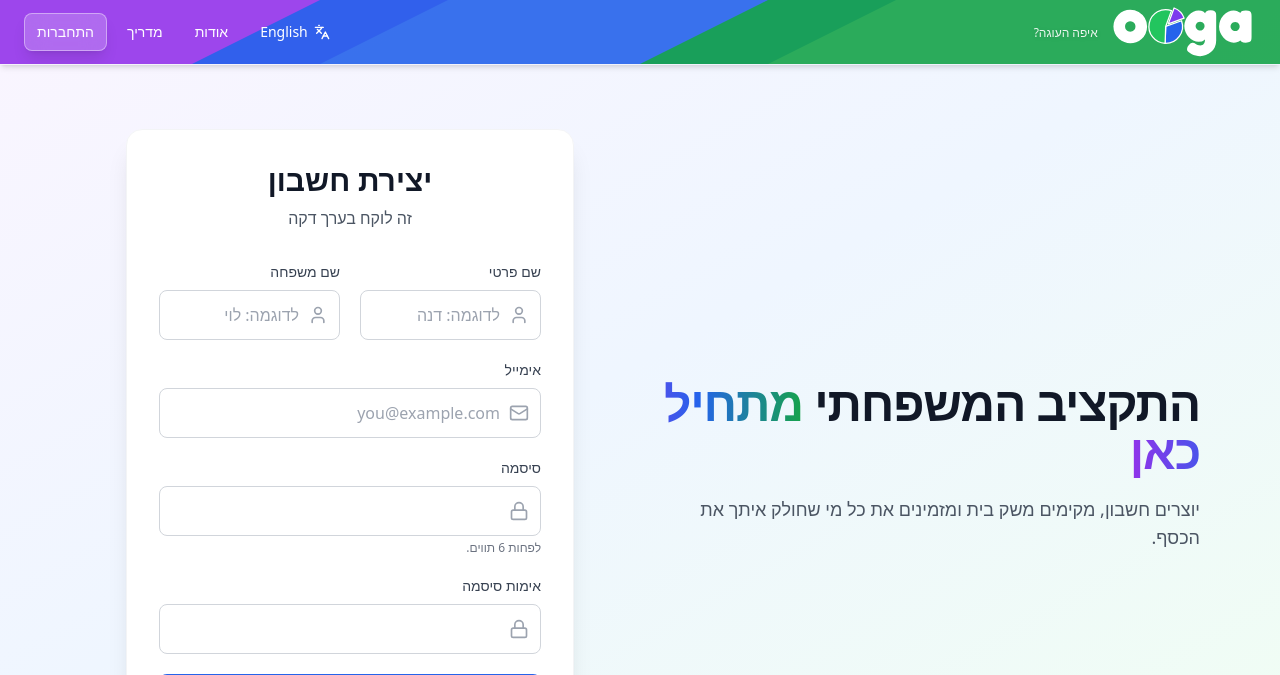
Test case: sign-in pages in Hebrew › leaves no English on the create-account card
In the field labelled "שם פרטי": (450, 315) [360,290,541,340], type "דנה"
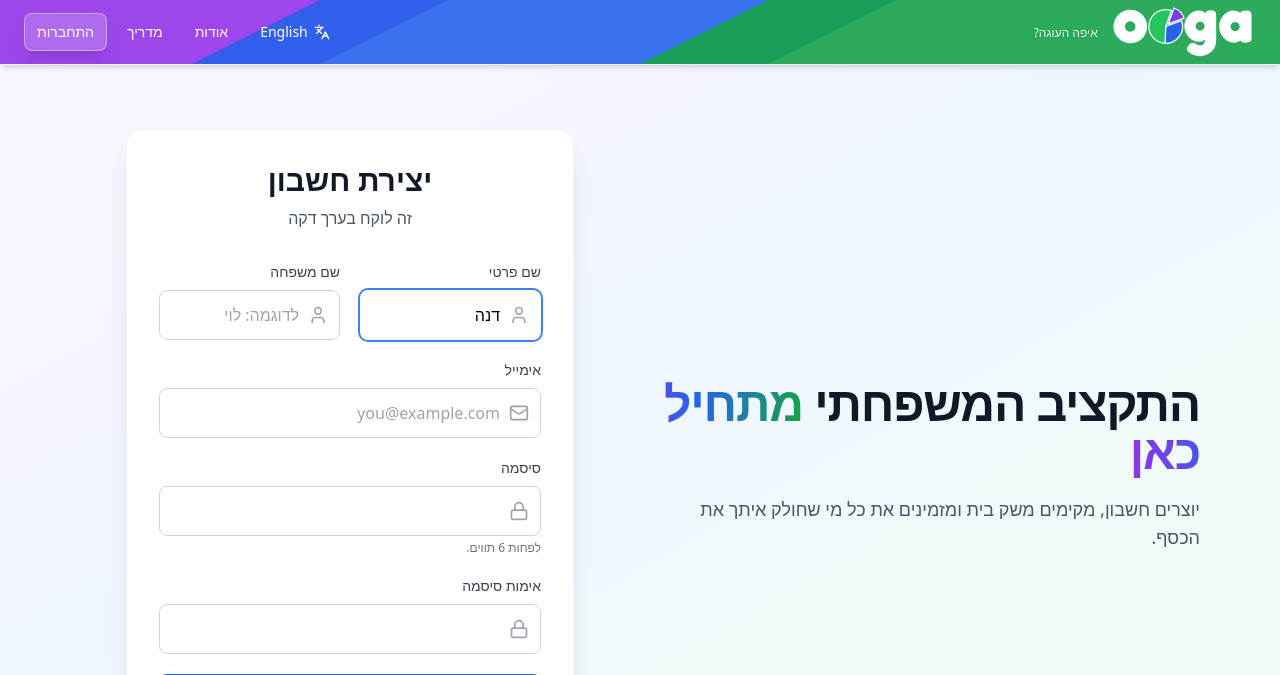
In the field labelled "שם משפחה": (250, 315) [159,290,340,340], type "לוי"
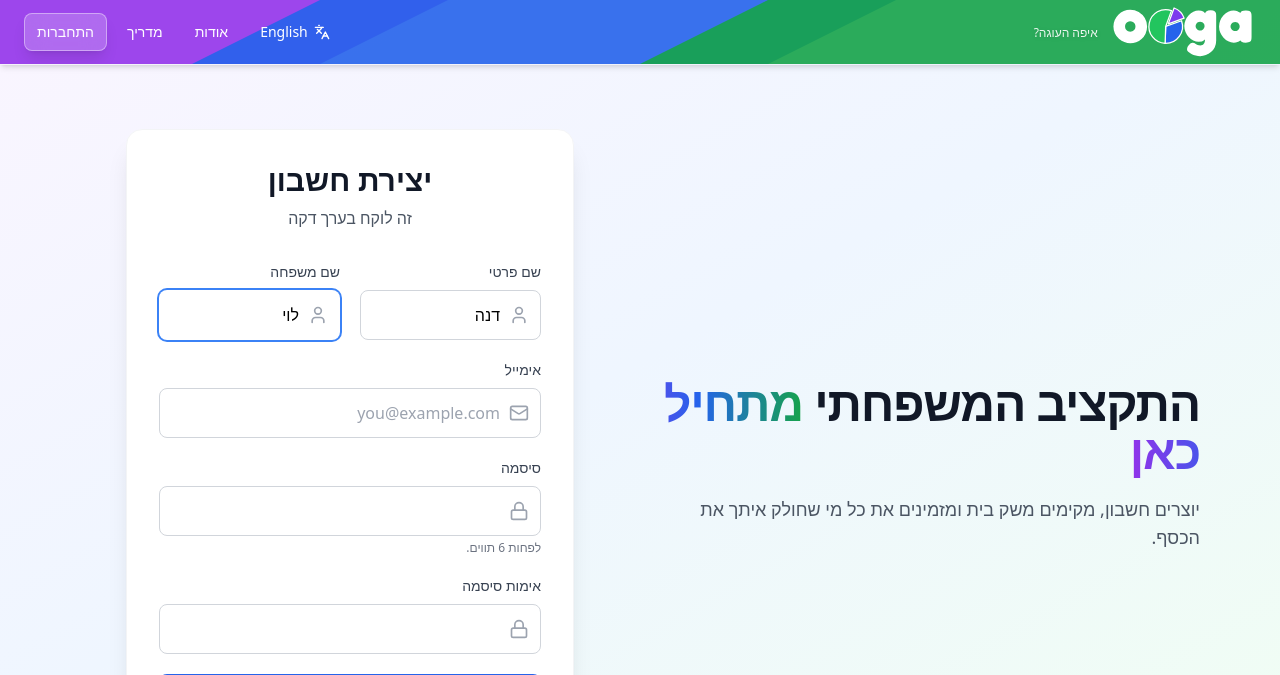
In the field labelled "אימייל": (350, 413) [159,388,541,438], type "dana@example.com"
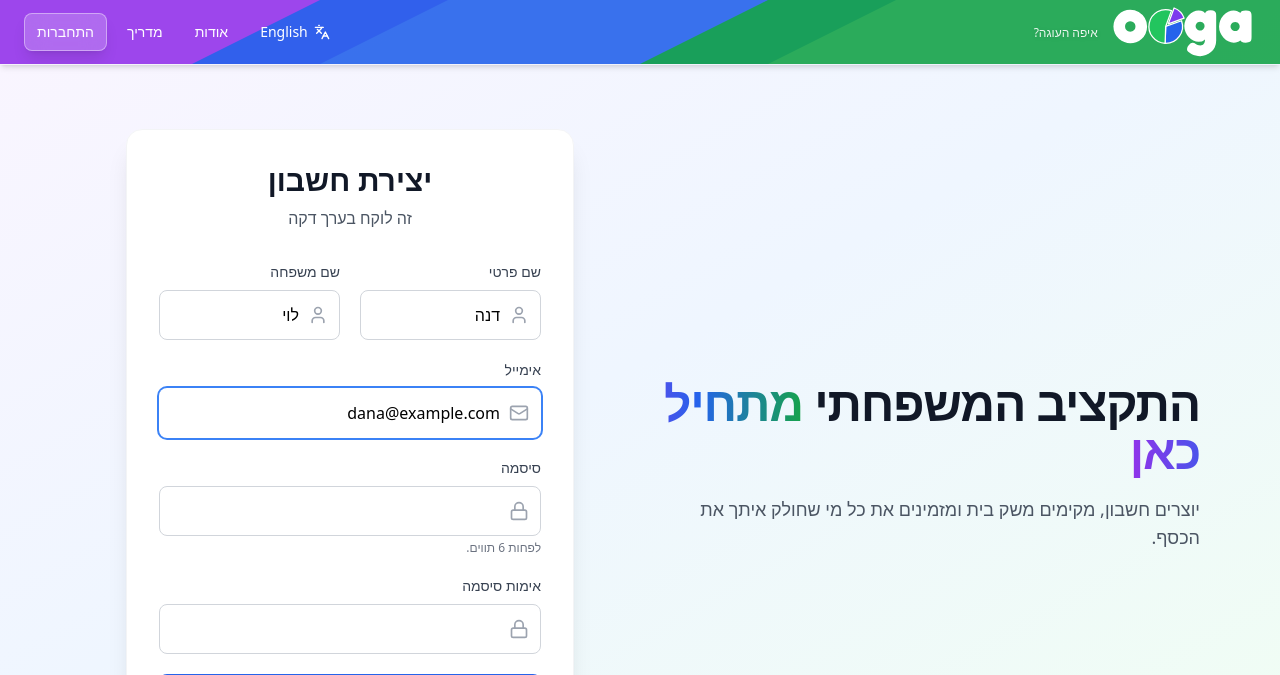
In the password field labelled "סיסמה": (350, 511) [159,486,541,536], type "secret1"
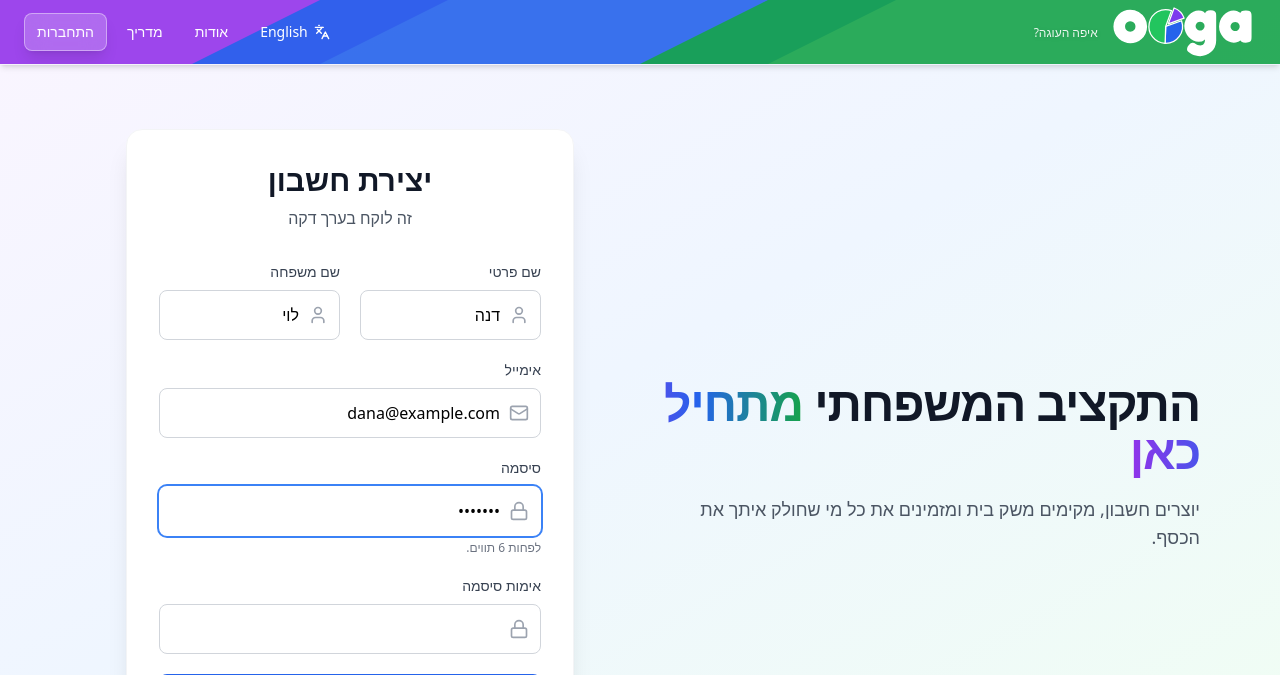
In the password field labelled "אימות סיסמה": (350, 629) [159,604,541,654], type "secret2"
(page scrolled)
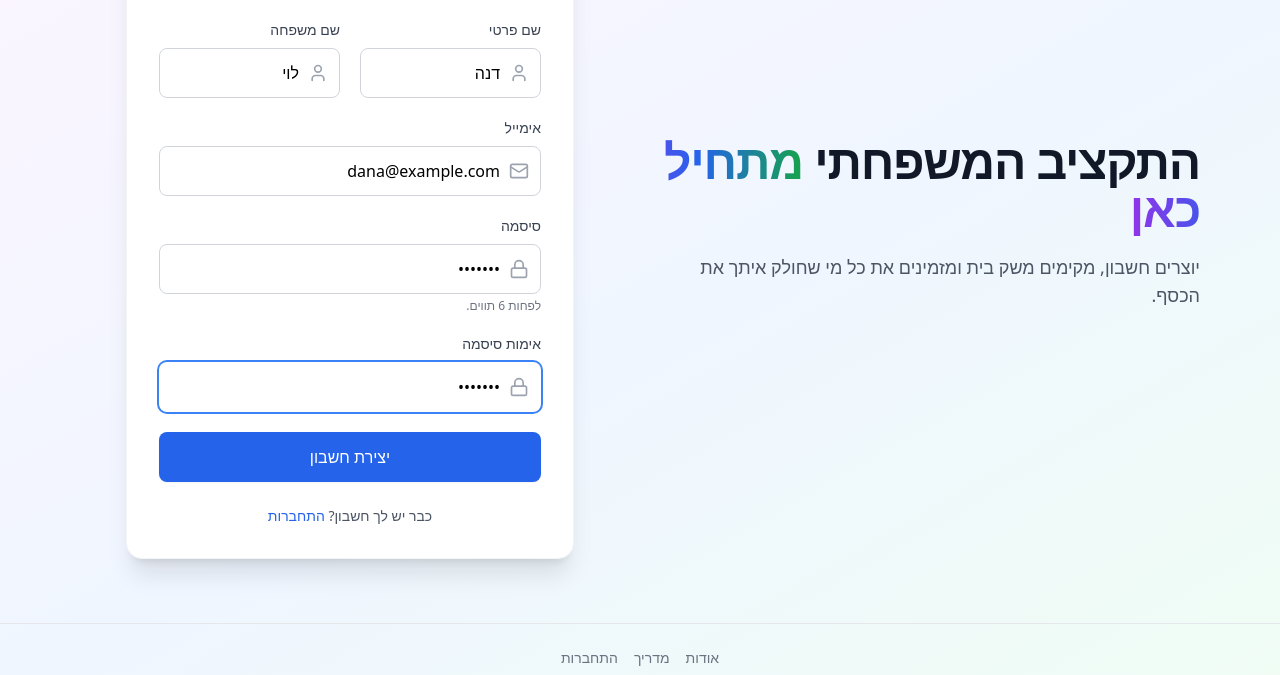
Click the button "יצירת חשבון": (350, 457) [159,432,541,482]
(page scrolled)
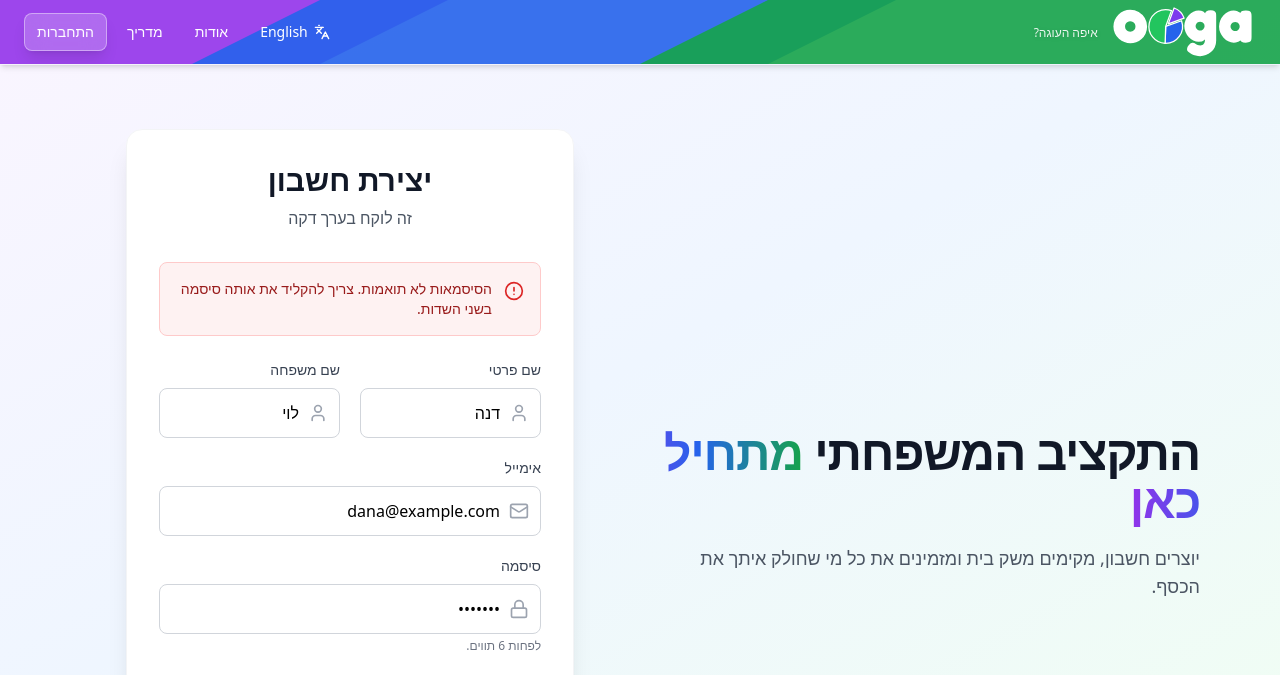
Expected: the message reads "הסיסמאות לא תואמות. צריך להקליד את אותה סיסמה בשני השדות.", [181,279,492,318]
